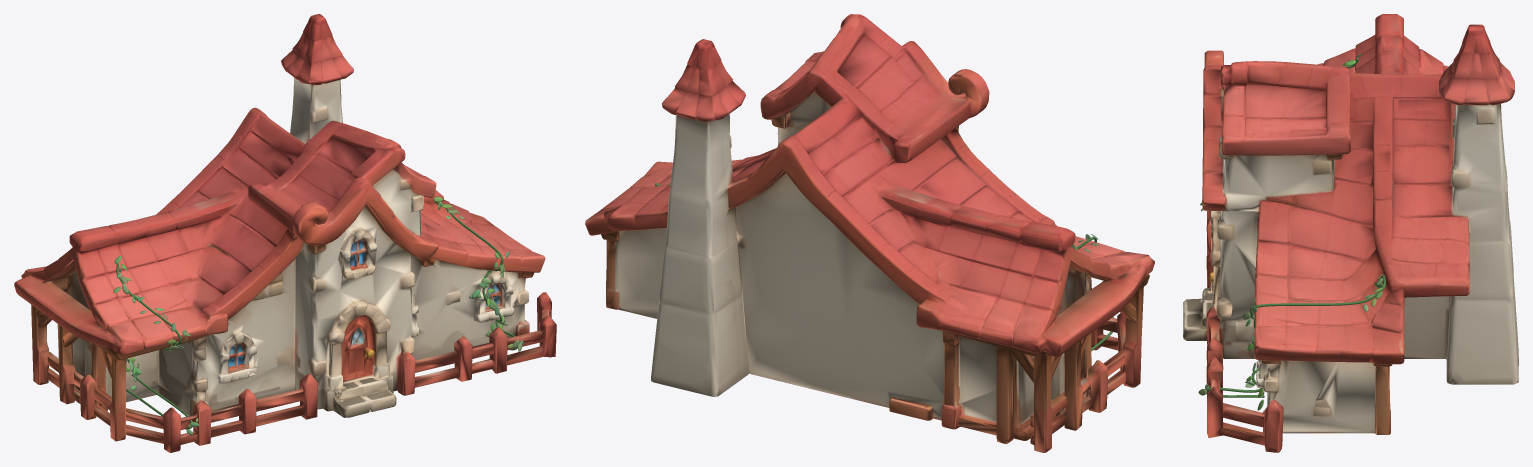
File: cottage.glb
3 views of the same model, side by side, from view 1: azimuth 30°, elevation 25°; view 2: azimuth 150°, elevation 25°; view 3: azimuth 270°, elevation 25° (orthographic). The views are drawn at different scales.
Visible parts, largest first — view 1: node_0, Facade ivy leaves, detail-Ivy-stems; view 2: node_0; view 3: node_0, detail-Ivy-stems, Facade ivy leaves.
Boxes of the visible parts, box(x1,y1,x2,y2) form: node_0: box(14, 14, 556, 452); Facade ivy leaves: box(113, 196, 523, 434); detail-Ivy-stems: box(116, 202, 519, 429); node_0: box(585, 14, 1154, 452); node_0: box(1183, 14, 1518, 452); detail-Ivy-stems: box(1206, 58, 1385, 397); Facade ivy leaves: box(1198, 54, 1384, 410).
Size of the model in its own units: 8.21 by 5 by 4.44.
3 materials, 1 textured.
